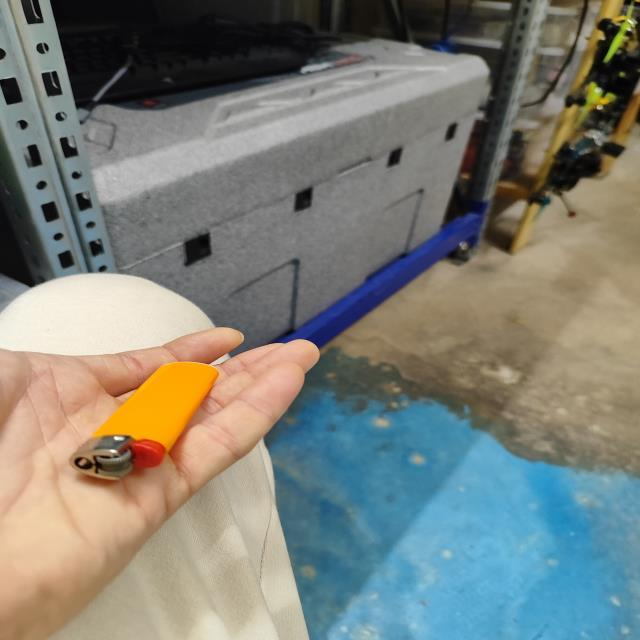lighter: (74, 362, 218, 480)
